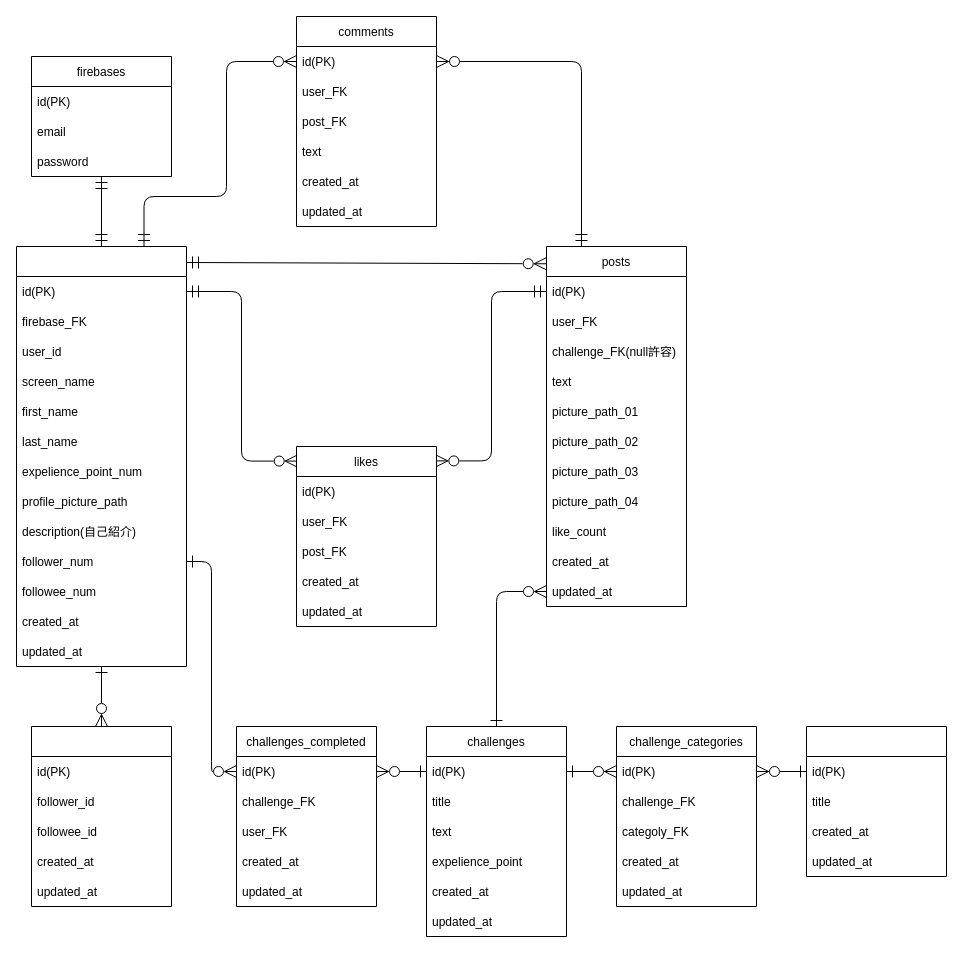
Image size: 963x953. Some labels were removed from this diagram. The box of each missing label's shape, as (x1, y1, x2, y2) in pixels:
categories: (806, 726, 946, 876)
follows: (30, 726, 172, 906)
users: (16, 246, 186, 666)
